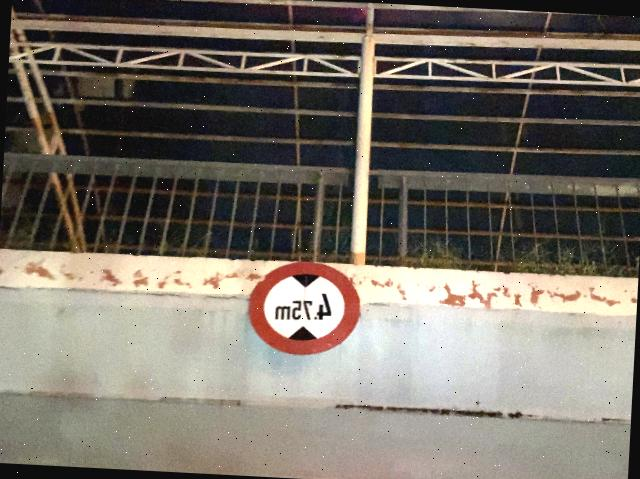han-che-chieu-cao: (246, 259, 363, 359)
